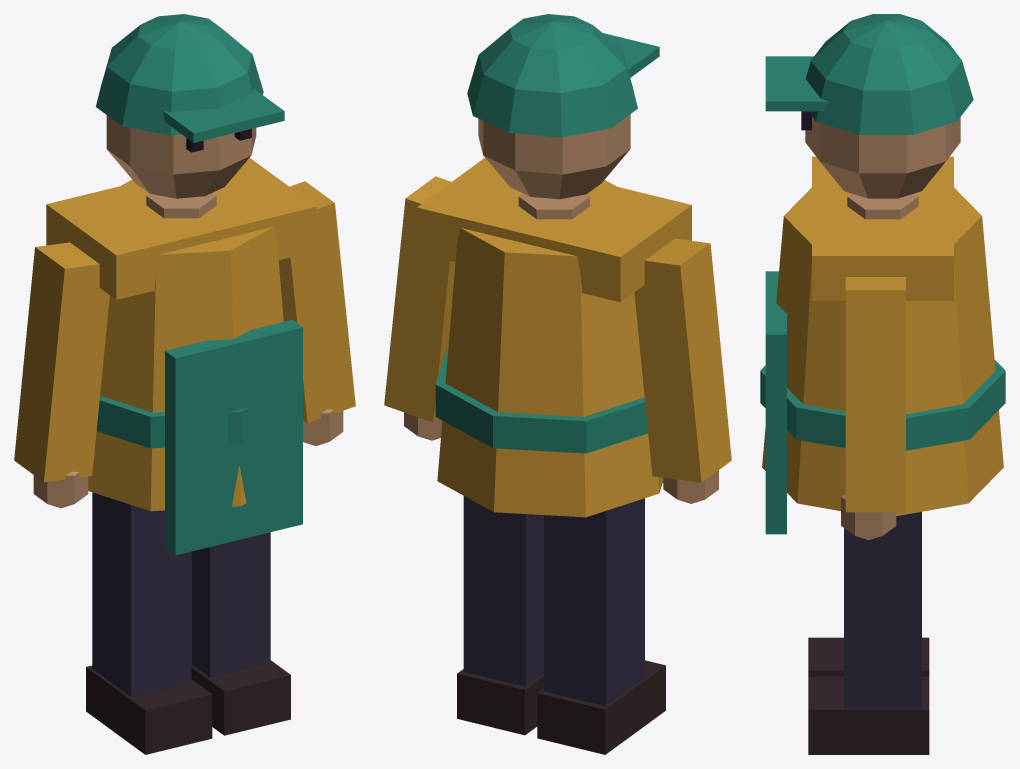
Rendered from person_glazier.gltf.
3 renders of one model, left to right at view 1: azimuth 30°, elevation 25°; view 2: azimuth 150°, elevation 25°; view 3: azimuth 270°, elevation 25°, orthographic.
Visible parts, largest first — view 1: body, face; view 2: body, face; view 3: body, face.
Boxes of the visible parts, bbox=[...] form: body: bbox=[14, 158, 355, 754]; face: bbox=[96, 14, 284, 198]; body: bbox=[384, 158, 731, 754]; face: bbox=[467, 14, 659, 199]; body: bbox=[760, 156, 1005, 754]; face: bbox=[765, 14, 973, 198].
Bounding box in the file's own units: 1.03 × 2.16 × 0.69.
